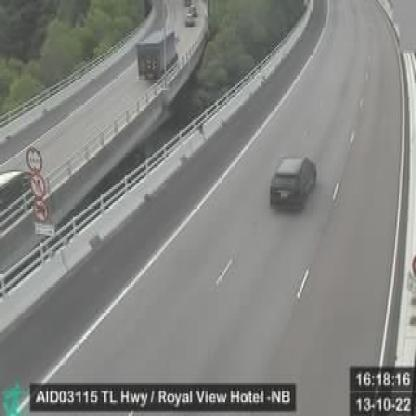Car: (268, 152, 317, 213), (185, 12, 196, 29)
Truck: (137, 26, 179, 81)
